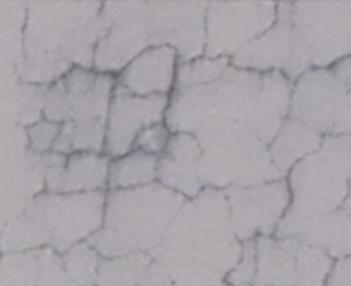fissura: (19, 3, 351, 286)
